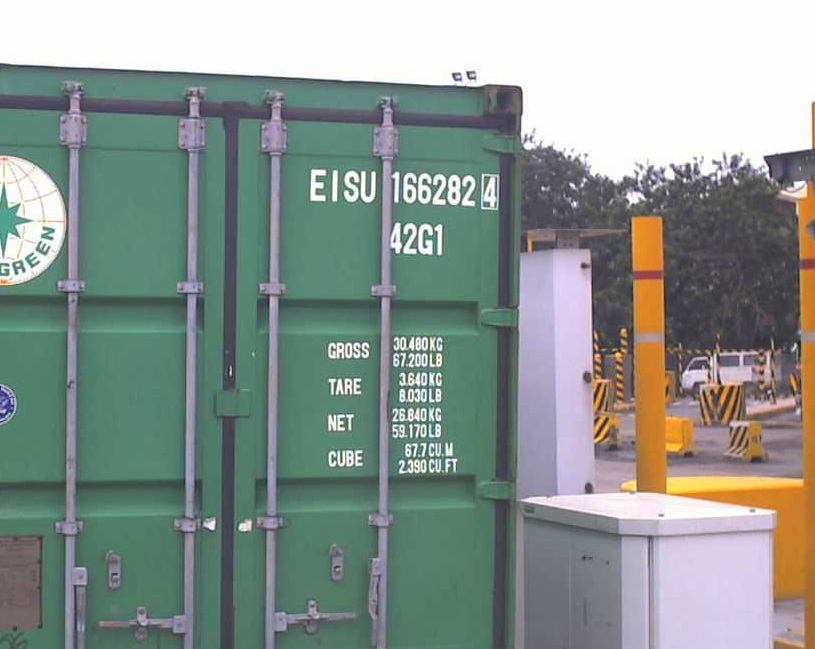container_door: (2, 77, 519, 649)
